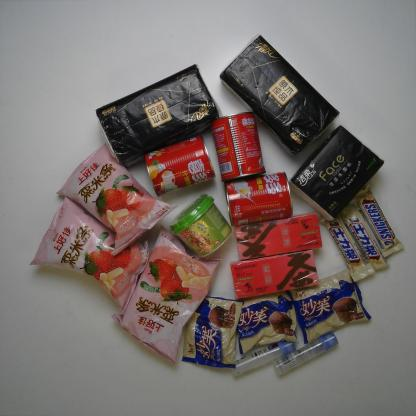Canned Food: (144, 134, 216, 198), (209, 110, 268, 185), (221, 171, 294, 228)
Chocolate: (318, 207, 376, 284), (338, 200, 391, 274), (354, 184, 405, 258)
Dessert: (286, 268, 372, 345), (179, 289, 242, 371), (226, 288, 302, 354)
Instant Drink: (229, 249, 321, 300), (233, 212, 325, 262), (170, 192, 232, 260)
Puffed Food: (108, 220, 222, 367), (29, 197, 157, 314), (54, 142, 180, 258)
Stationery: (272, 330, 340, 378), (228, 338, 296, 378)
Tissue: (218, 32, 341, 157), (91, 61, 224, 166), (286, 124, 385, 223)
